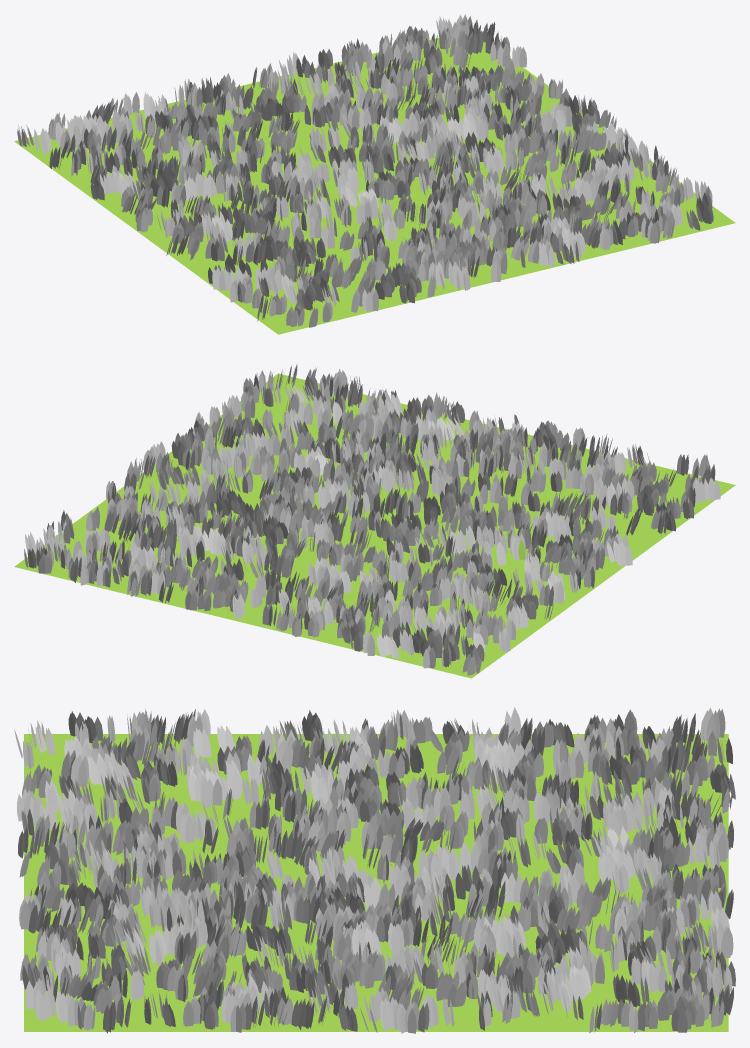
Rendered from Grama.fbx.
3 views of the same model, one above another, from view 1: azimuth 30°, elevation 25°; view 2: azimuth 150°, elevation 25°; view 3: azimuth 270°, elevation 25° (orthographic). The views are drawn at different scales.
Parts seen in each view (by area): view 1: Plane; view 2: Plane; view 3: Plane.
Part boxes in pixels (x1,y1,x2,y2): Plane: (14,37,735,334); Plane: (14,373,735,678); Plane: (24,734,728,1031).
Size of the model in its own units: 1216 by 52.47 by 1218.
